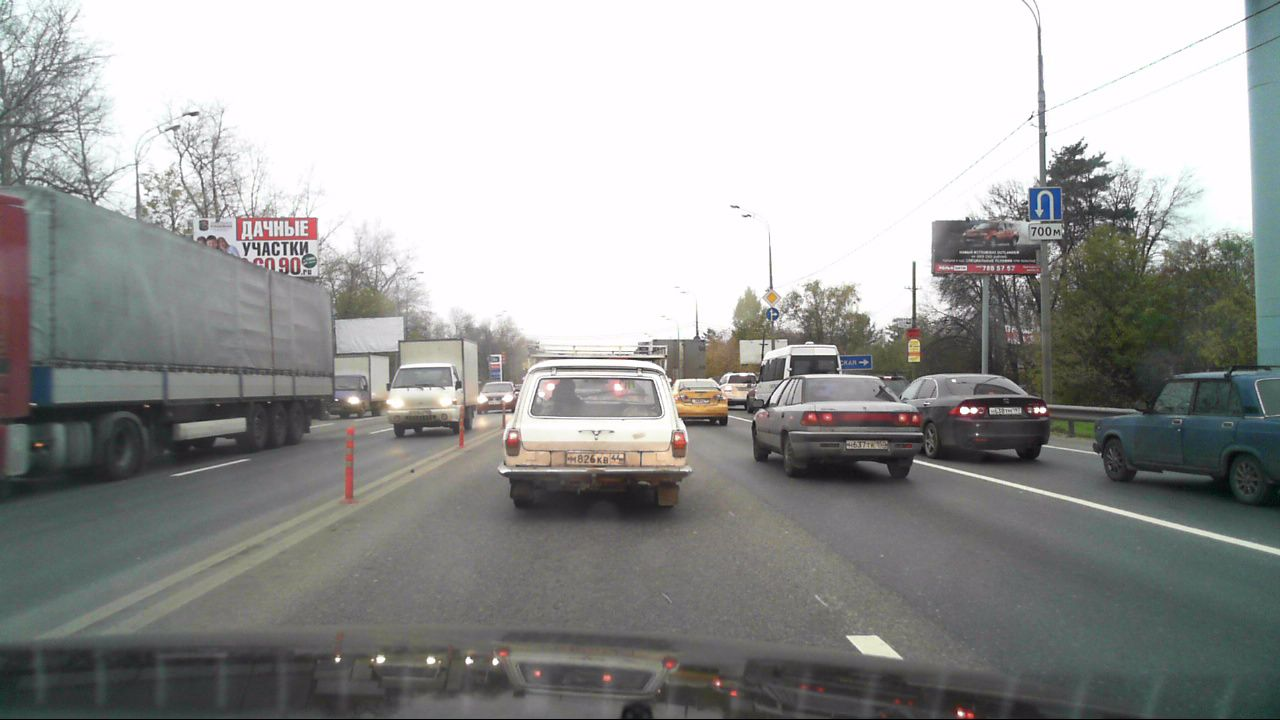U-turn: (1029, 188, 1062, 220)
